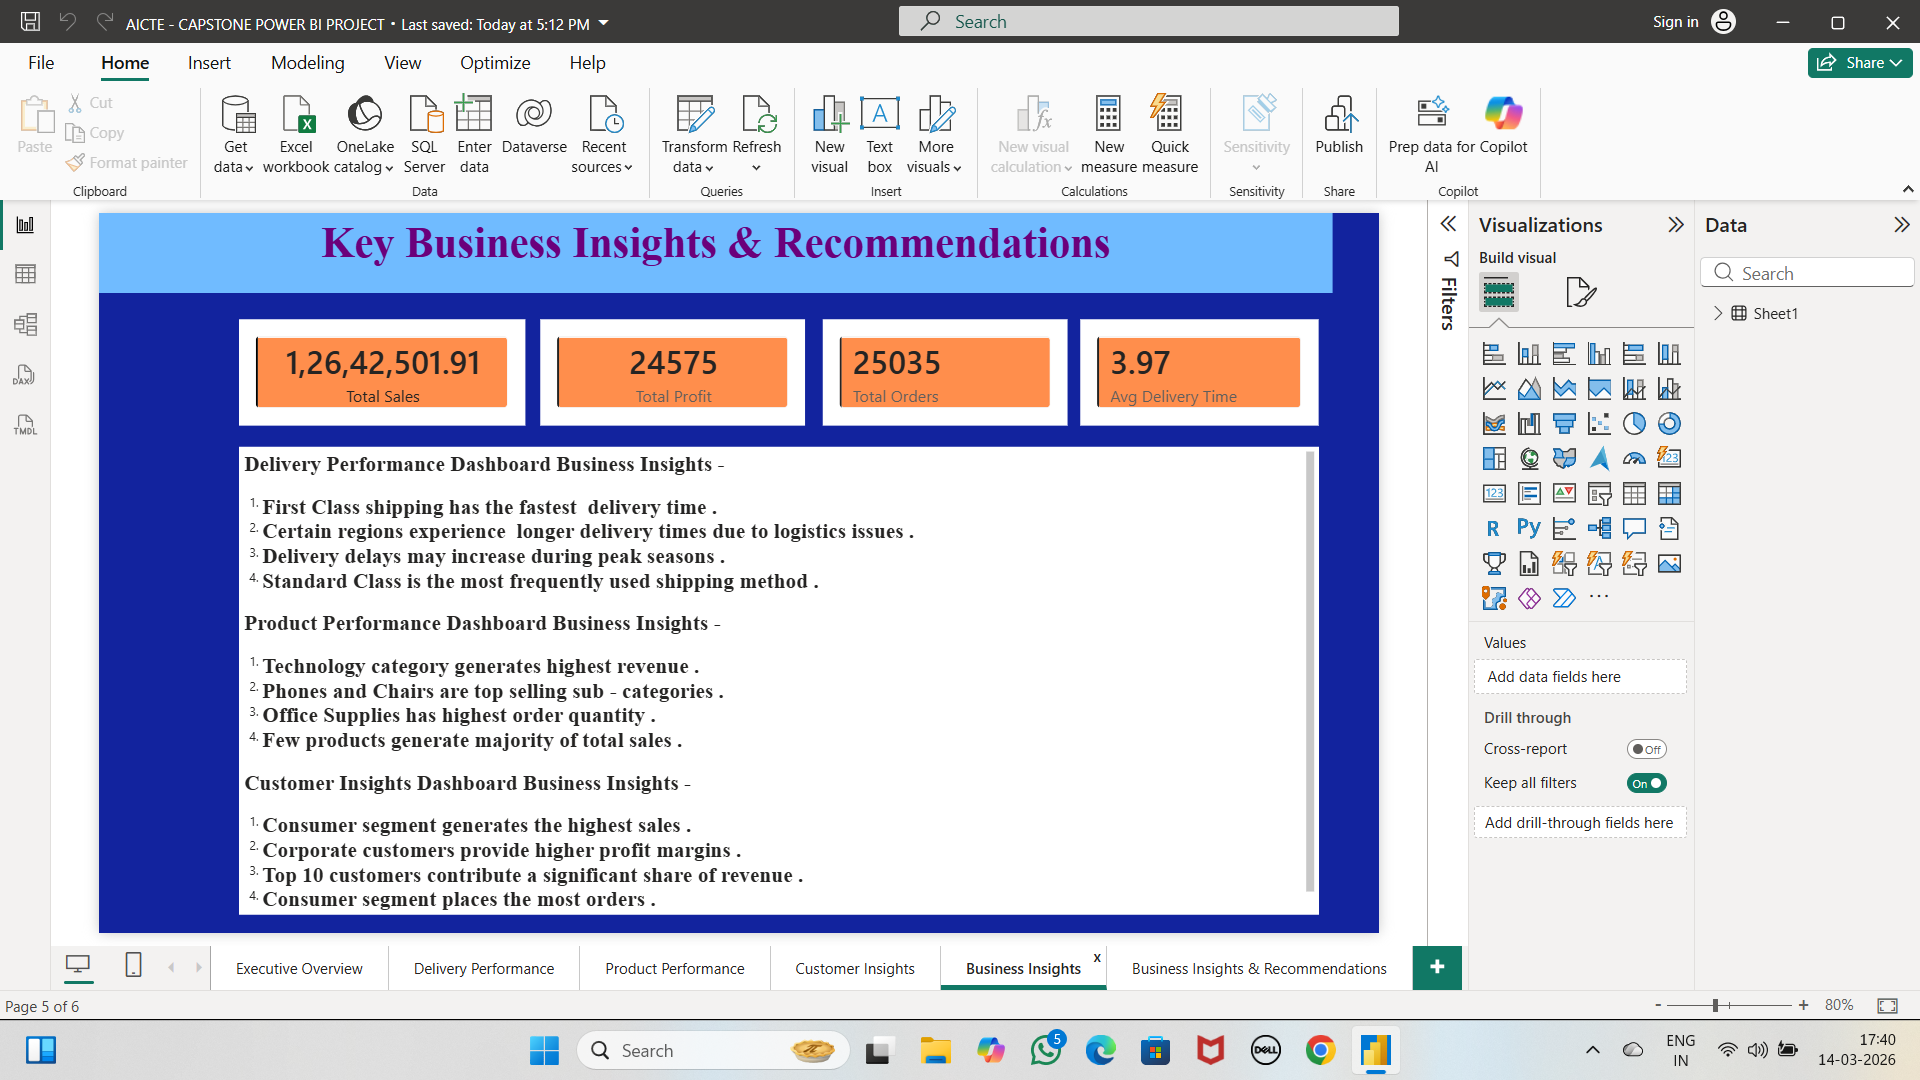

The dashboard page shown, as its layout file describes it:
{"tool":"powerbi","page":{"name":" Business Insights","canvas":[1280,720],"ordinal":4},"visuals":[{"type":"textbox","box":[0,0,1233.3,80],"z":0},{"type":"textbox","box":[140,233.3,1080,468.3],"z":1000},{"type":"cardVisual","fields":{"Data":["Sheet1.Total Sales"]},"box":[140,106.7,286.7,106.7],"z":2000},{"type":"cardVisual","fields":{"Data":["Sheet1.Total Profit"]},"box":[441.7,106.7,265,106.7],"z":3000},{"type":"cardVisual","fields":{"Data":["Sheet1.Total Orders"]},"box":[723.3,106.7,245,106.7],"z":4000},{"type":"cardVisual","fields":{"Data":["Sheet1.Avg Delivery Time"]},"box":[981.7,106.7,238.3,106.7],"z":5000}]}

Visuals, with their boxes on the page's 1280x720 design canvas (x1, y1, x2, y2). These are canvas units, not pixel positions in the 1920x1080 screenshot, which may show the page scaled, cropped or inside an application window:
textbox: x1=0 y1=0 x2=1233 y2=80
textbox: x1=140 y1=233 x2=1220 y2=702
cardVisual - Sheet1.Total Sales: x1=140 y1=107 x2=427 y2=213
cardVisual - Sheet1.Total Profit: x1=442 y1=107 x2=707 y2=213
cardVisual - Sheet1.Total Orders: x1=723 y1=107 x2=968 y2=213
cardVisual - Sheet1.Avg Delivery Time: x1=982 y1=107 x2=1220 y2=213
